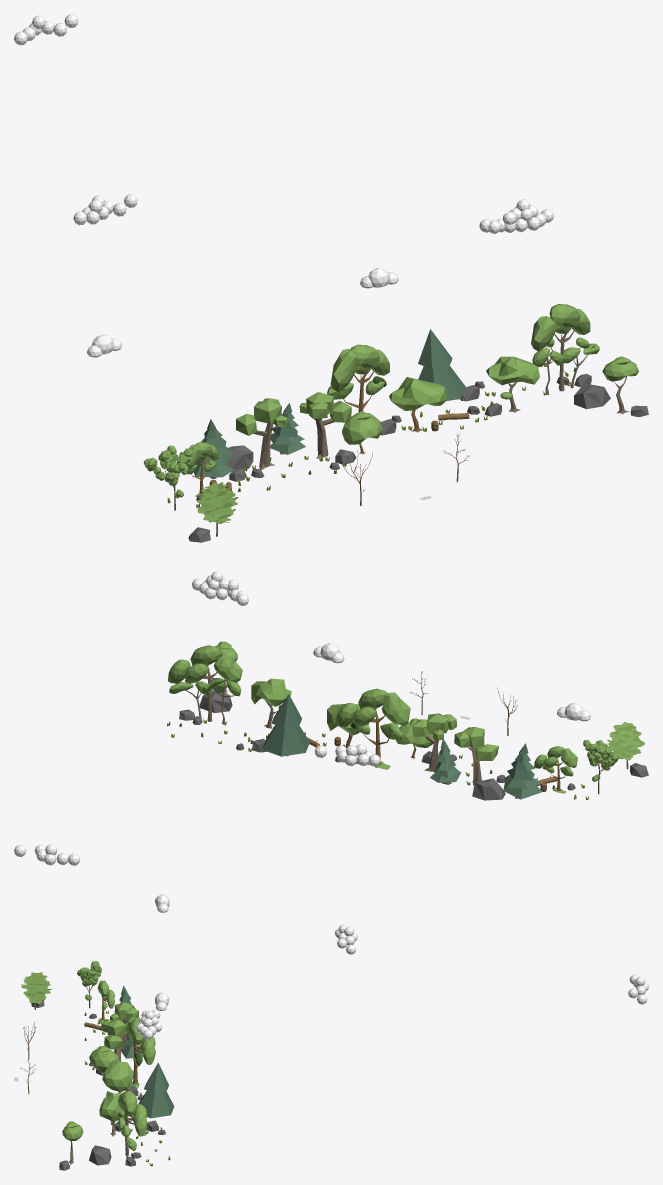
The picture shows the model from 3 angles, top to bottom: view 1: azimuth 30°, elevation 25°; view 2: azimuth 150°, elevation 25°; view 3: azimuth 270°, elevation 25°; orthographic projection. The views are drawn at different scales.
Visible parts, largest first — view 1: Cylinder_2, Icosphere_4, Icosphere_5, Icosphere_1, skp7EEA; view 2: Cylinder_2, skp7EEA (×2), Componente_12 (×2), skpEFB7 (×2), Icosphere_5, Icosphere_1; view 3: Cylinder_2, Icosphere_4, Icosphere_5, Icosphere_1.
Part boxes in pixels (bbox=[...]): Cylinder_2: bbox=[418, 329, 465, 400]; Icosphere_4: bbox=[389, 377, 447, 410]; Icosphere_5: bbox=[486, 356, 539, 385]; Icosphere_1: bbox=[342, 413, 382, 444]; skp7EEA: bbox=[330, 349, 357, 392]; Cylinder_2: bbox=[262, 694, 309, 756]; skp7EEA (×2): bbox=[358, 688, 410, 726]; Componente_12 (×2): bbox=[199, 690, 505, 800]; skpEFB7 (×2): bbox=[190, 645, 242, 682]; Icosphere_5: bbox=[251, 678, 291, 706]; Icosphere_1: bbox=[396, 722, 434, 747]; Cylinder_2: bbox=[138, 1062, 174, 1118]; Icosphere_4: bbox=[102, 1060, 134, 1091]; Icosphere_5: bbox=[99, 1091, 121, 1121]; Icosphere_1: bbox=[89, 1048, 118, 1072].
Size of the model in its own units: 1736 by 2638 by 635.
